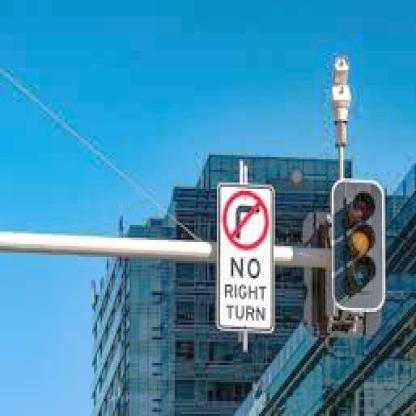No right turn: (218, 186, 272, 254)
